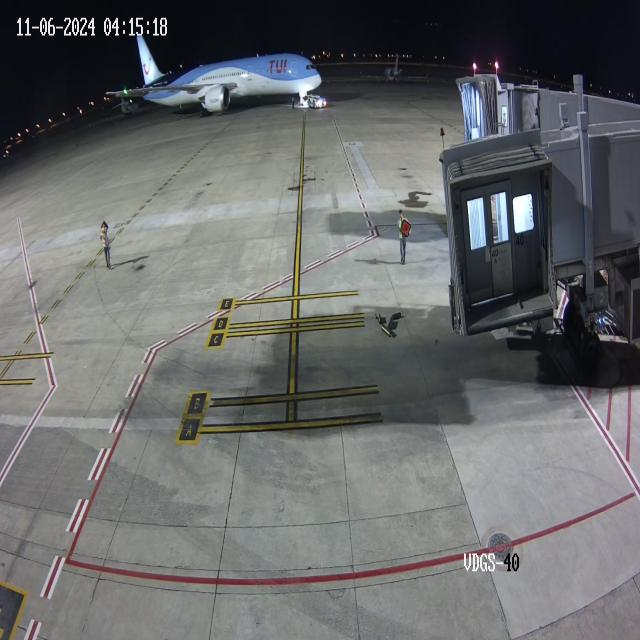bridge: (482, 71, 540, 139)
plane: (90, 1, 329, 123)
window: (304, 62, 318, 72)
